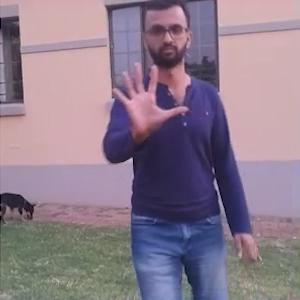follow_hand: (109, 56, 189, 139)
